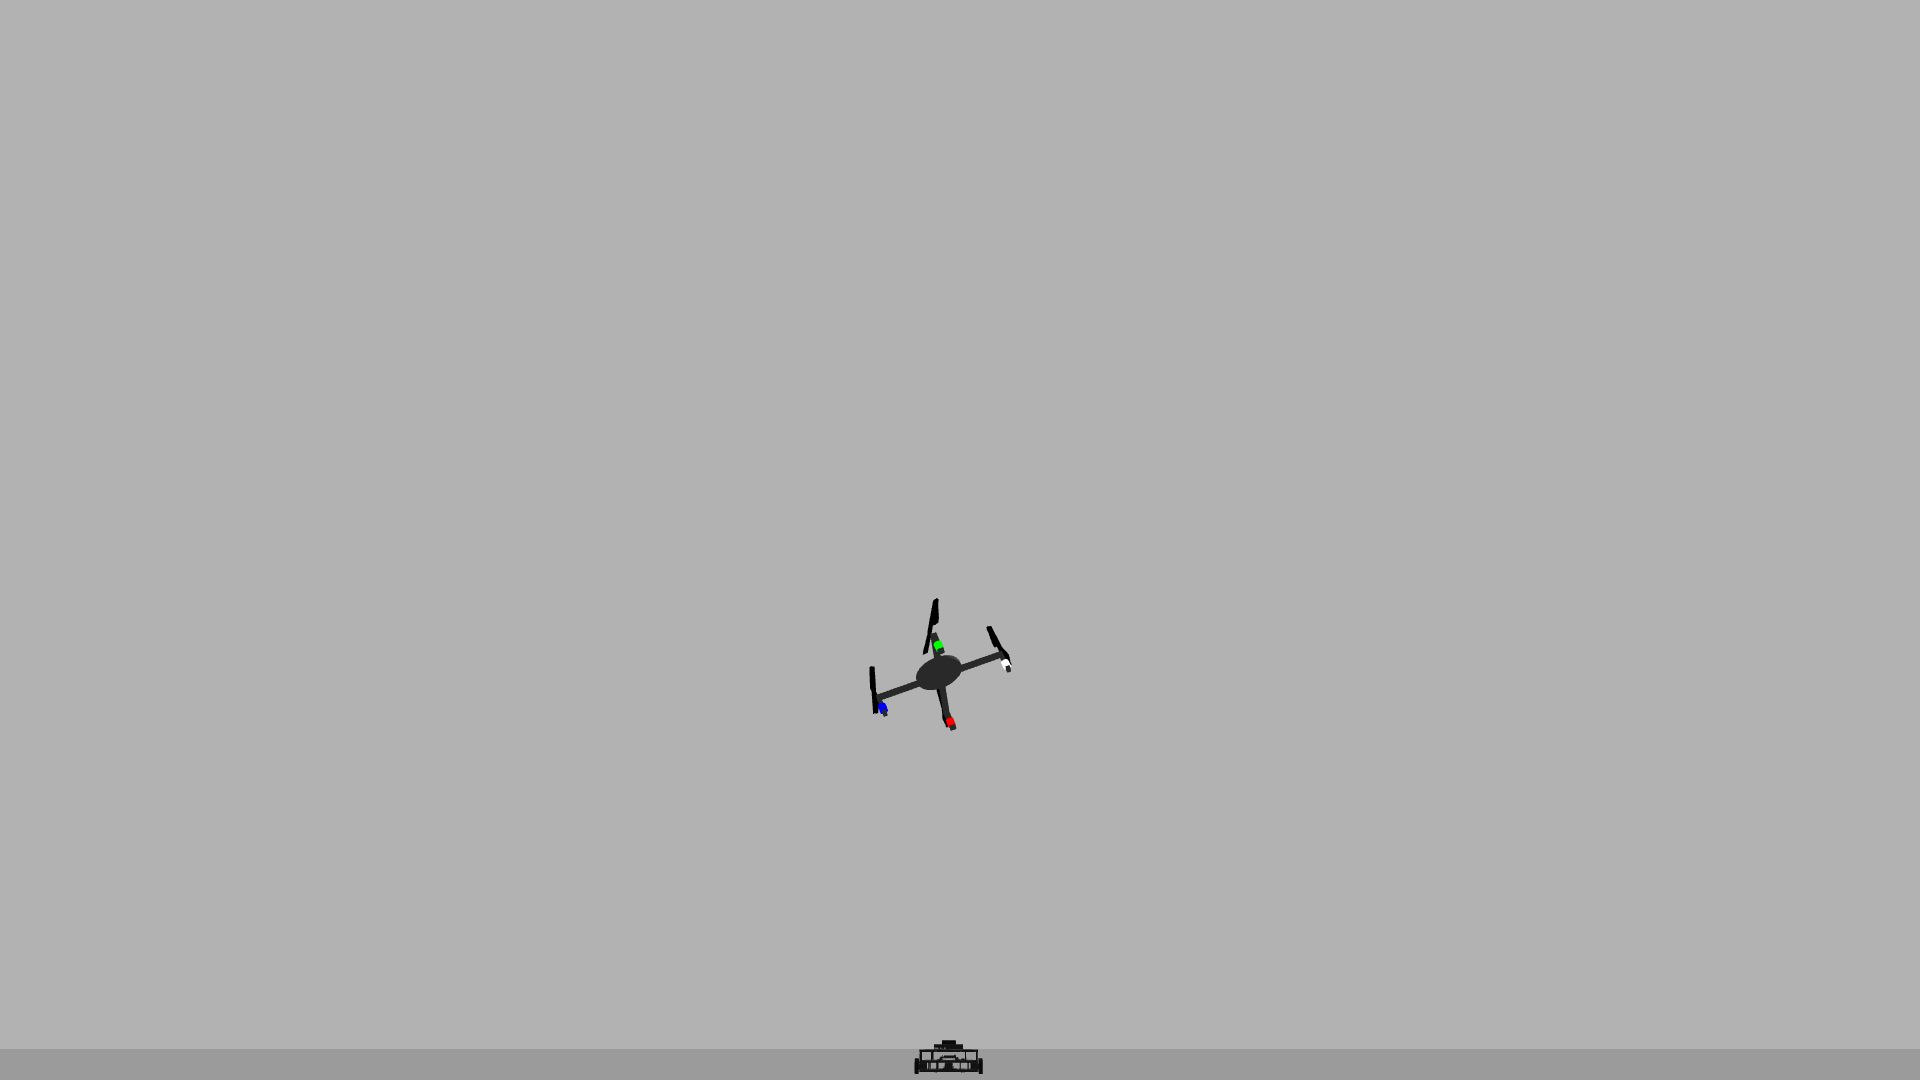drone: (847, 578, 1036, 752)
